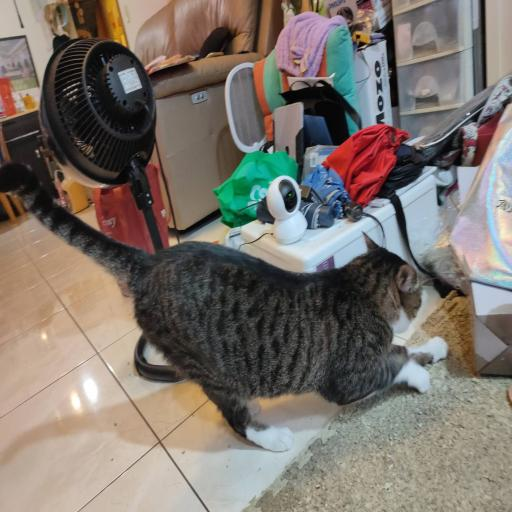cat: (111, 236, 448, 449)
